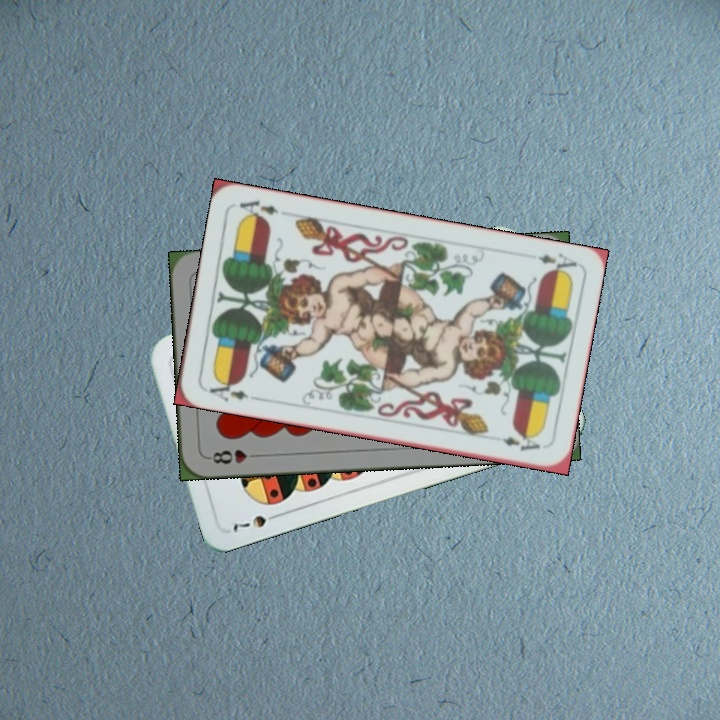EA: (205, 375, 260, 405), (534, 249, 579, 278)
H8: (204, 445, 263, 466)
S7: (228, 508, 284, 535)
